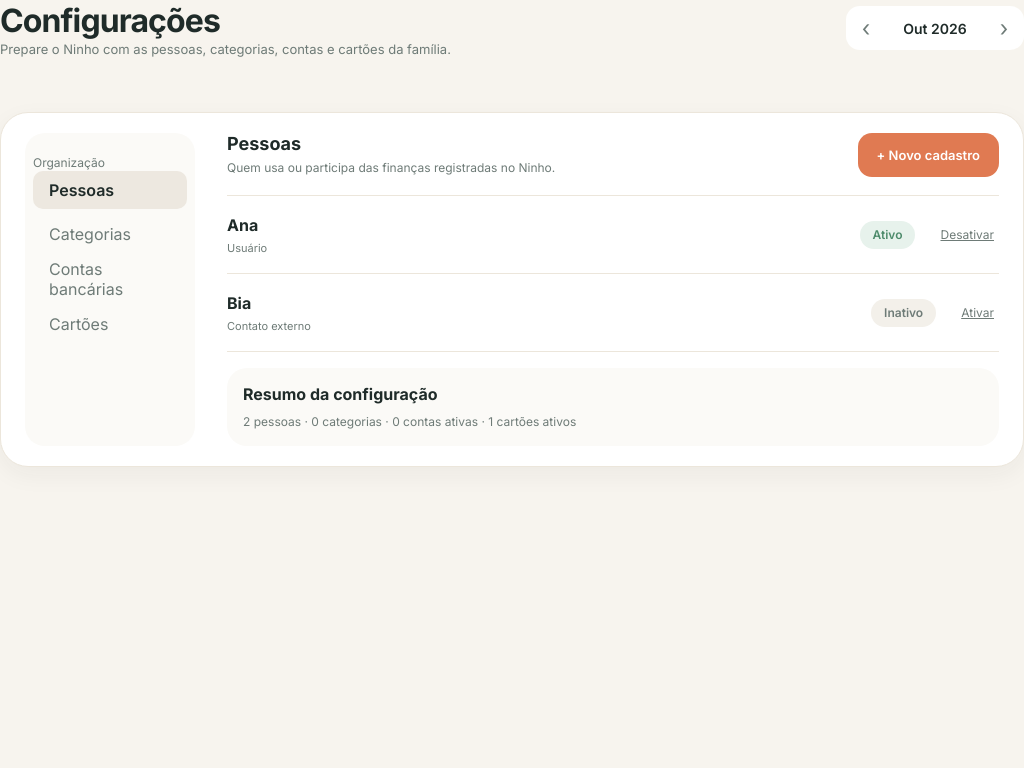
Test: preenche limite atual também nas configurações
Check: the text "Ana" is shown, box [227,214,258,234]
Click the button "Cartões".
click(110, 324)  # box [33,305,187,343]
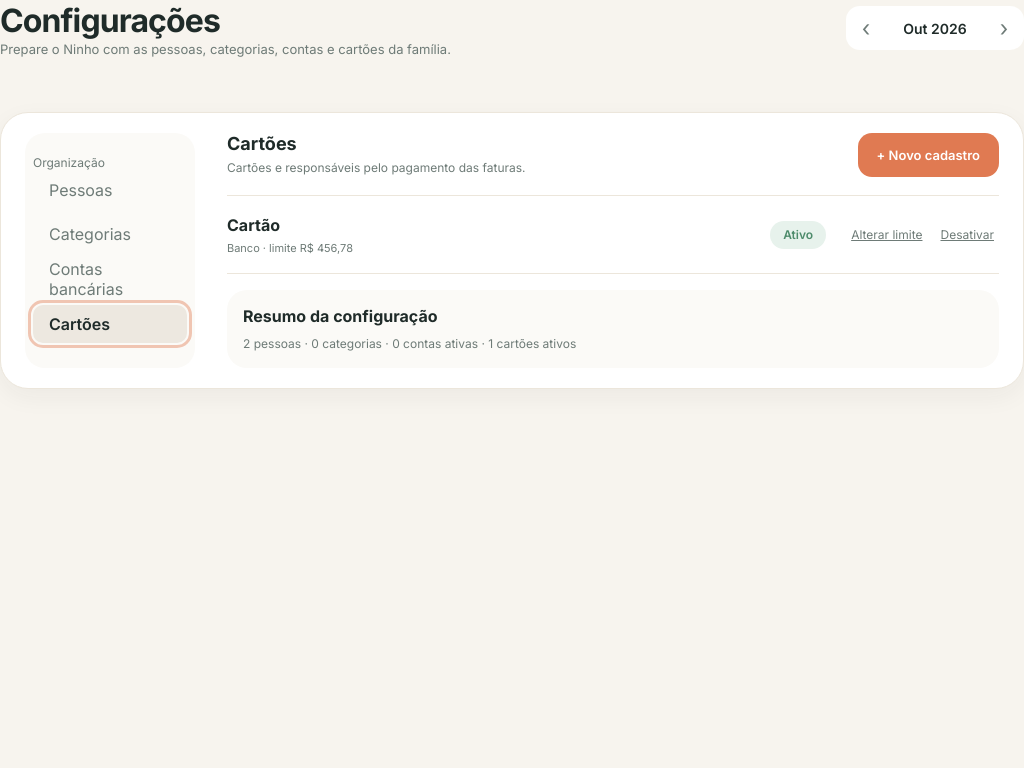
Click the button "Alterar limite".
click(887, 234)  # box [846,222,928,247]
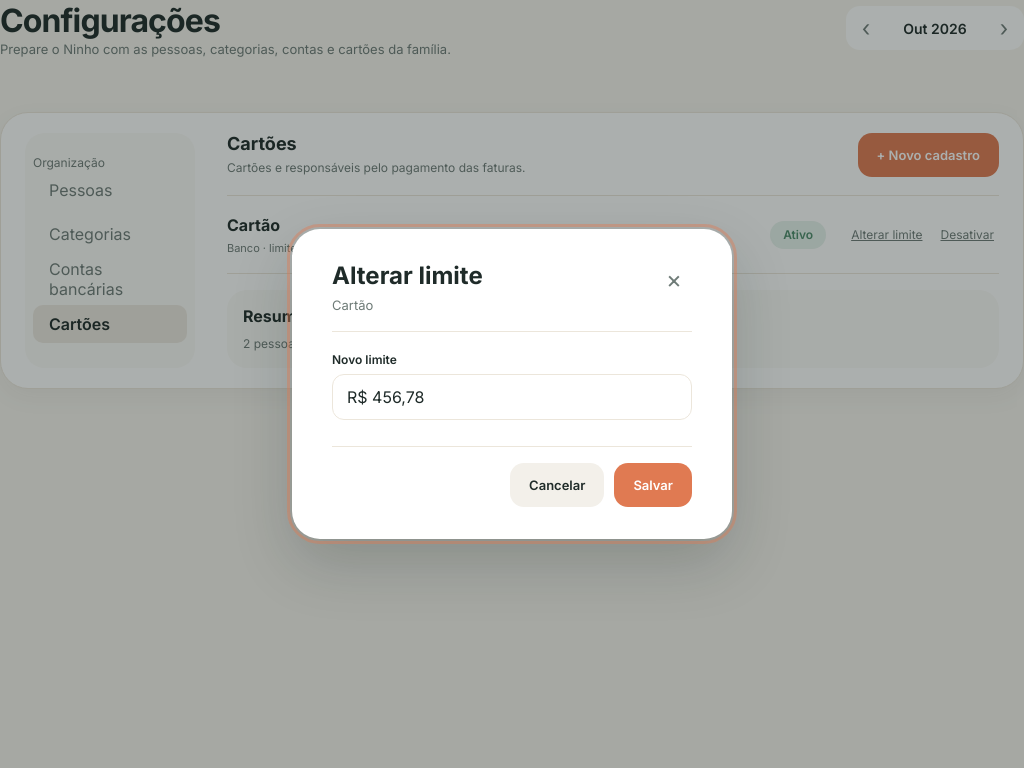
Check: the field labelled "Novo limite" holds "R$ 456,78", box [332,374,692,420]
